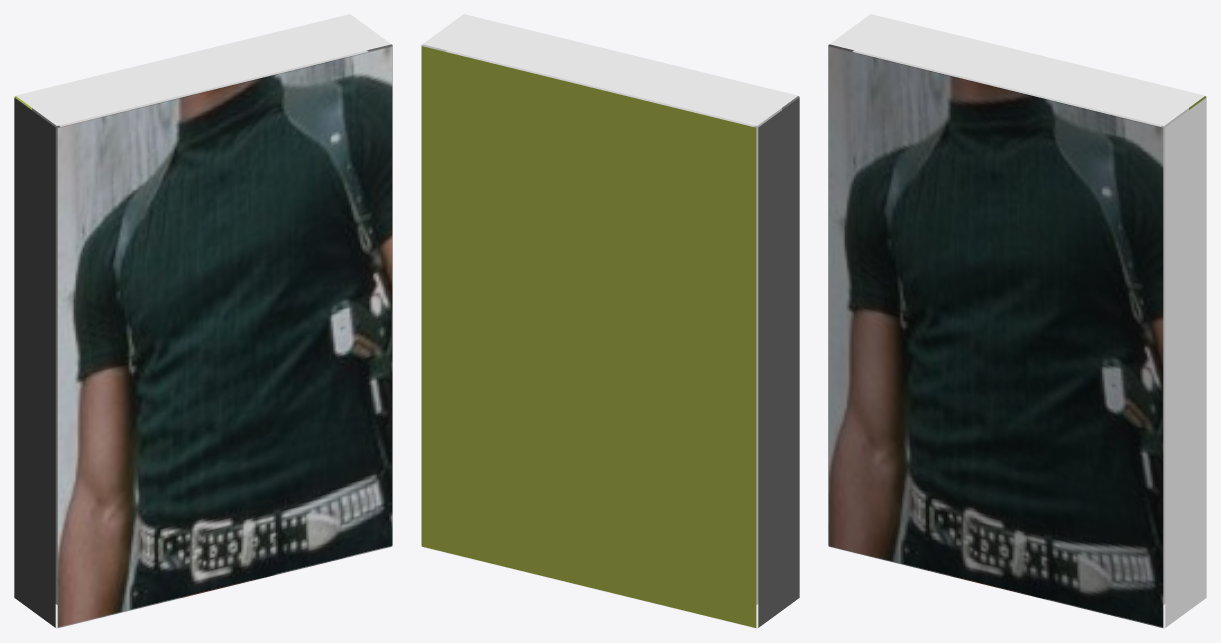
File: livre_badboy.glb
3 renders of one model, left to right at view 1: azimuth 30°, elevation 25°; view 2: azimuth 150°, elevation 25°; view 3: azimuth 330°, elevation 25°, orthographic.
Visible parts, largest first — view 1: Livre_Couverture_Avant, Livre_Dos, Tranche_Haut, Livre_Pages, Tranche_Droite; view 2: Livre_Couverture_Arriere, Livre_Dos, Tranche_Haut, Livre_Pages, Tranche_Droite; view 3: Livre_Couverture_Avant, Tranche_Droite, Tranche_Haut, Livre_Pages, Livre_Dos.
Boxes of the visible parts, bbox=[...] form: Livre_Couverture_Avant: bbox=[57, 46, 392, 627]; Livre_Dos: bbox=[14, 97, 55, 627]; Tranche_Haut: bbox=[16, 14, 390, 125]; Livre_Pages: bbox=[32, 50, 368, 604]; Tranche_Droite: bbox=[367, 44, 392, 545]; Livre_Couverture_Arriere: bbox=[421, 46, 756, 627]; Livre_Dos: bbox=[758, 97, 799, 627]; Tranche_Haut: bbox=[423, 14, 797, 125]; Livre_Pages: bbox=[445, 50, 781, 604]; Tranche_Droite: bbox=[421, 44, 446, 545]; Livre_Couverture_Avant: bbox=[828, 46, 1163, 627]; Tranche_Droite: bbox=[1165, 97, 1206, 627]; Tranche_Haut: bbox=[830, 14, 1204, 125]; Livre_Pages: bbox=[852, 50, 1188, 604]; Livre_Dos: bbox=[828, 44, 853, 545].
Bounding box in the file's own units: 1.41 × 2.01 × 0.31.
7 materials, 1 textured.
